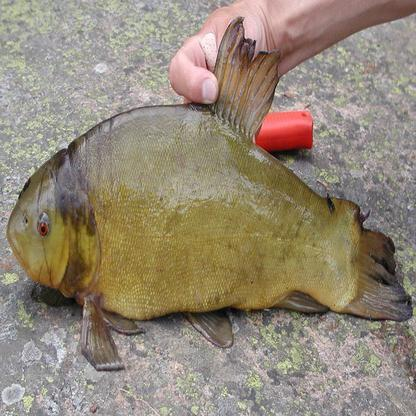fish: (6, 28, 412, 362)
